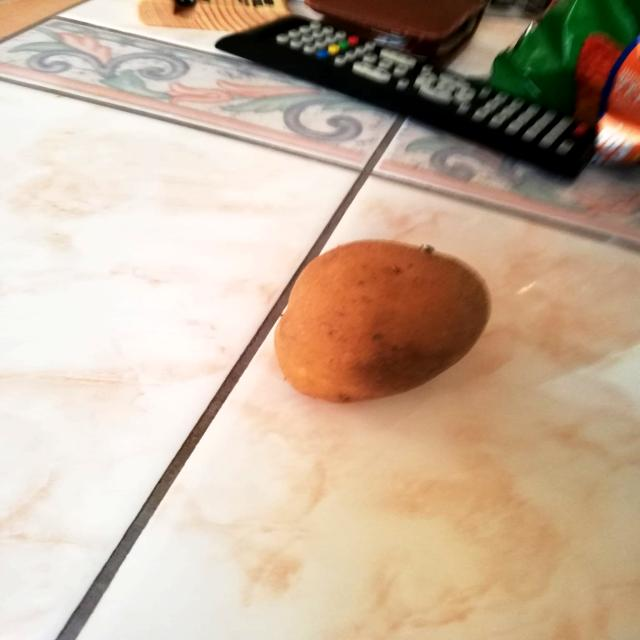potato: (266, 225, 502, 407)
